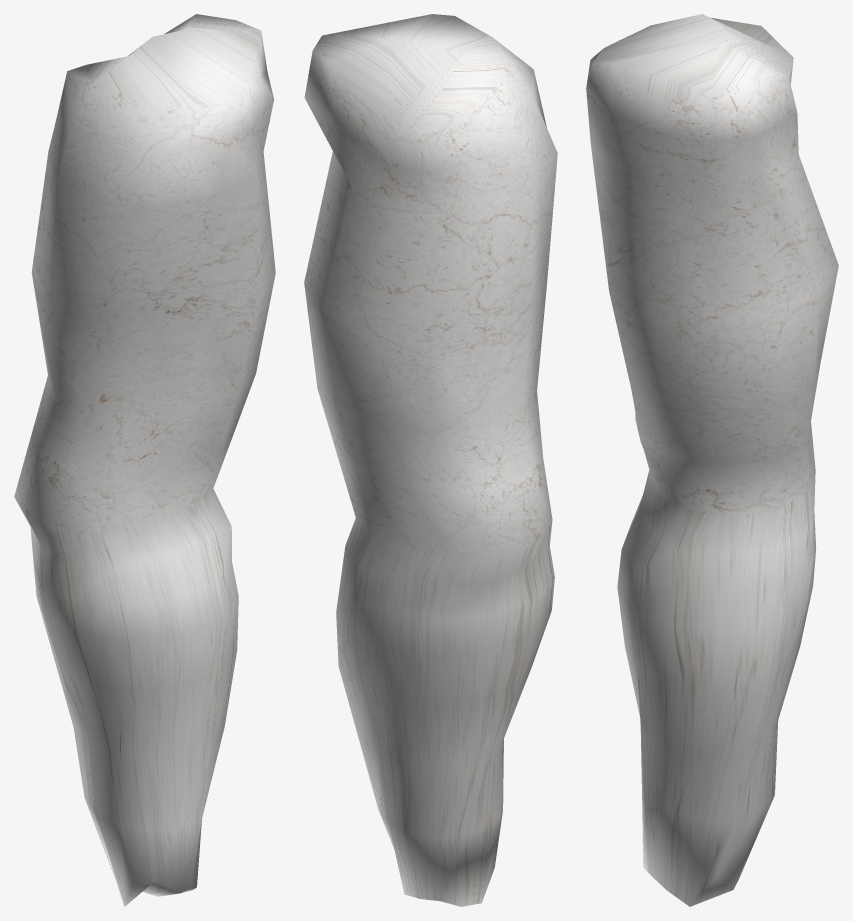
File: ArmStatue.fbx
3 views of the same model, side by side, from view 1: azimuth 30°, elevation 25°; view 2: azimuth 150°, elevation 25°; view 3: azimuth 270°, elevation 25° (orthographic). The views are drawn at different scales.
Visible parts, largest first — view 1: ArmStatue; view 2: ArmStatue; view 3: ArmStatue.
Boxes of the visible parts, <box> form: ArmStatue: <box>14,14,275,906</box>; ArmStatue: <box>304,14,557,906</box>; ArmStatue: <box>586,14,838,906</box>.
Bounding box in the file's own units: 0.3739 × 1.3 × 0.3425.
